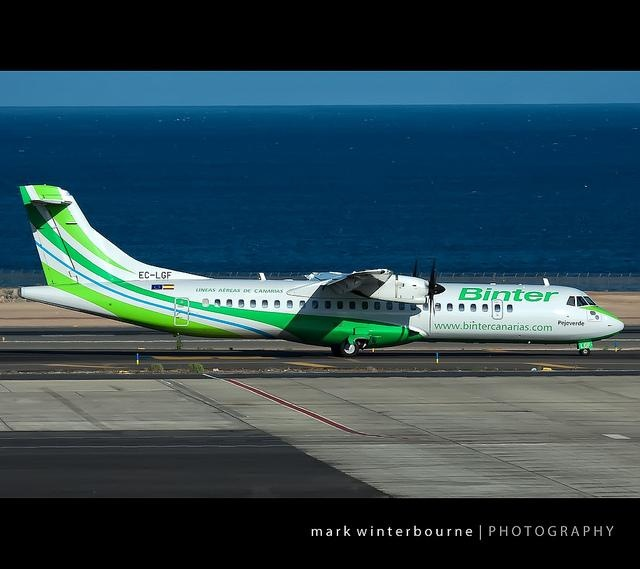airplane: (2, 178, 627, 371)
